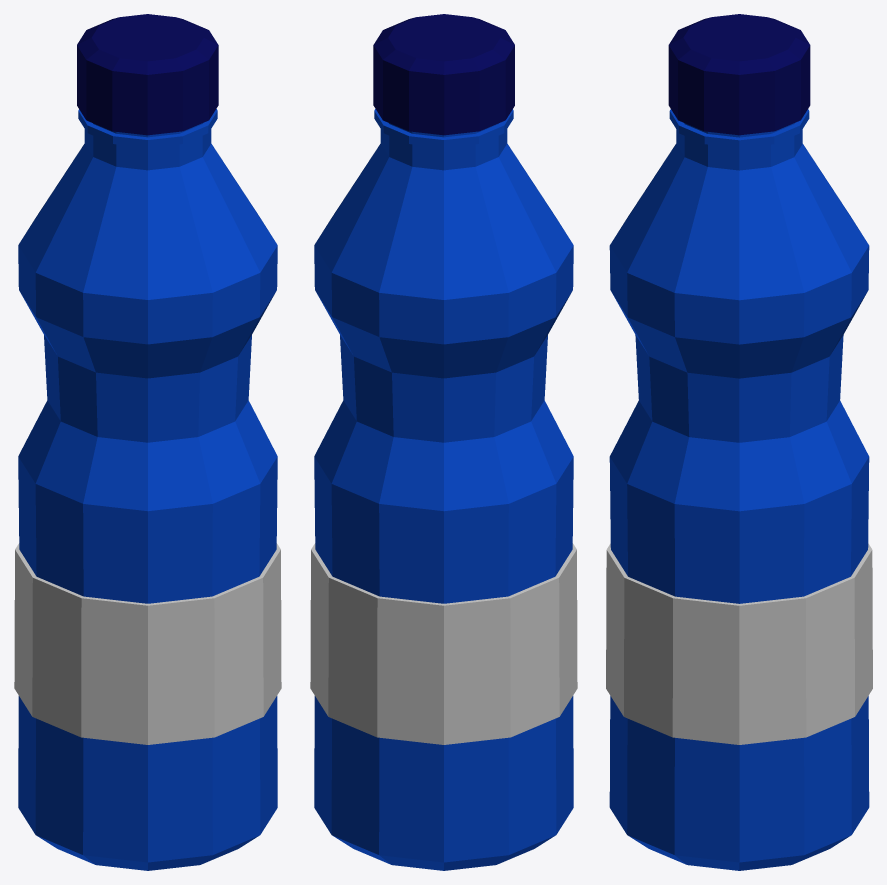
Rendered from water bottle 2.obj.
3 views of the same model, side by side, from view 1: azimuth 30°, elevation 25°; view 2: azimuth 150°, elevation 25°; view 3: azimuth 270°, elevation 25° (orthographic).
Parts seen in each view (by area): view 1: Cylinder.002, Cylinder.003; view 2: Cylinder.002, Cylinder.003; view 3: Cylinder.002, Cylinder.003.
Boxes of the visible parts, box(x1,y1,x2,y2) form: Cylinder.002: box(14, 109, 281, 870); Cylinder.003: box(77, 14, 218, 135); Cylinder.002: box(310, 109, 577, 870); Cylinder.003: box(373, 14, 514, 135); Cylinder.002: box(606, 109, 872, 870); Cylinder.003: box(668, 14, 810, 135).
Bounding box in the file's own units: 2.73 × 8.89 × 2.73.
